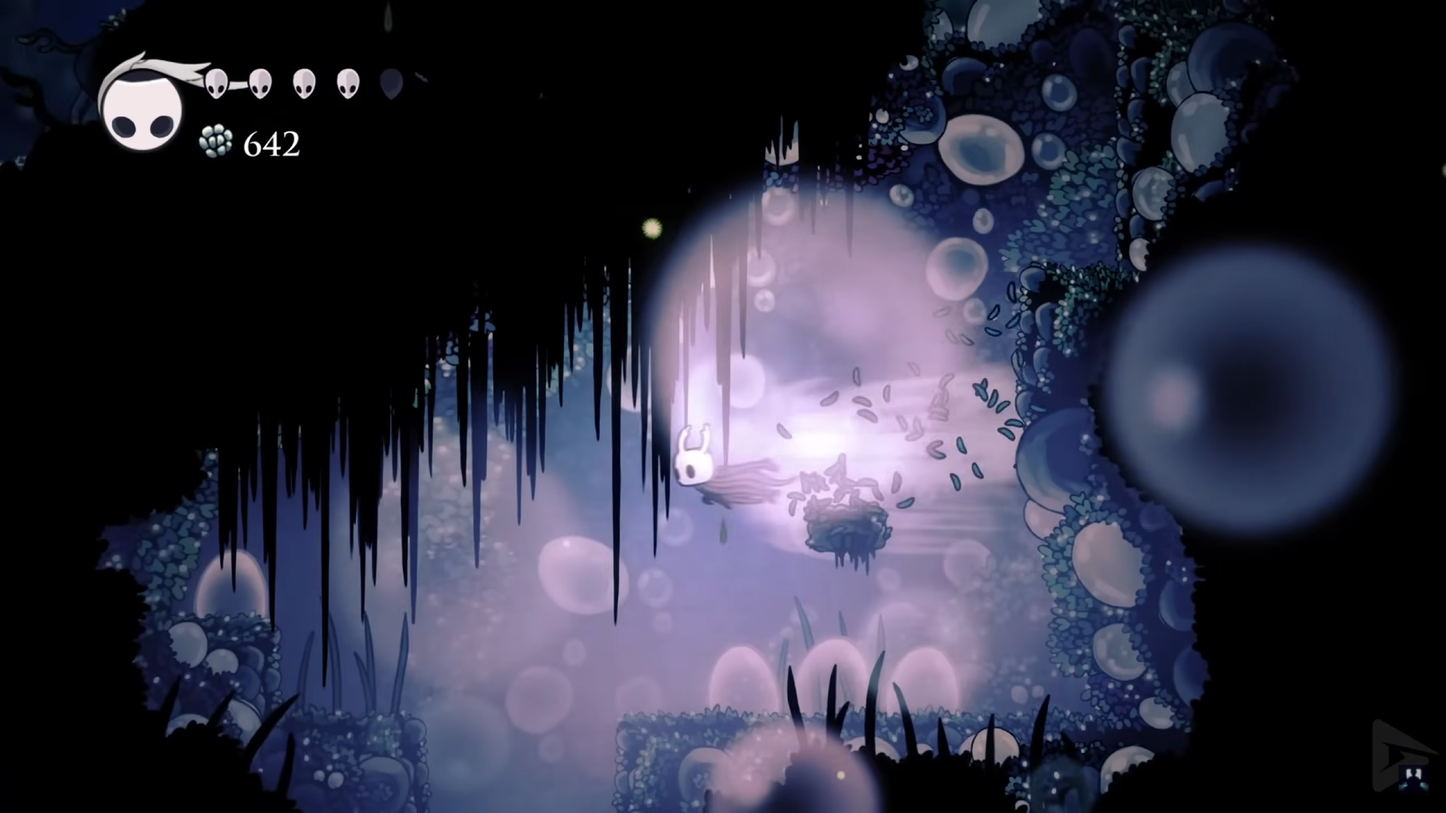HK: (669, 418, 785, 509)
